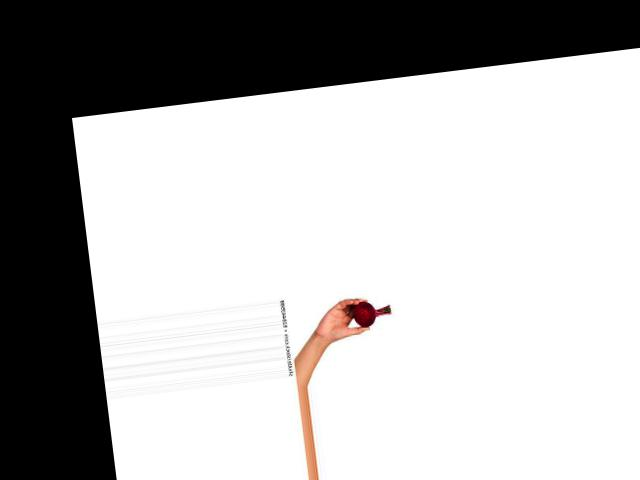beet: (352, 297, 392, 327)
